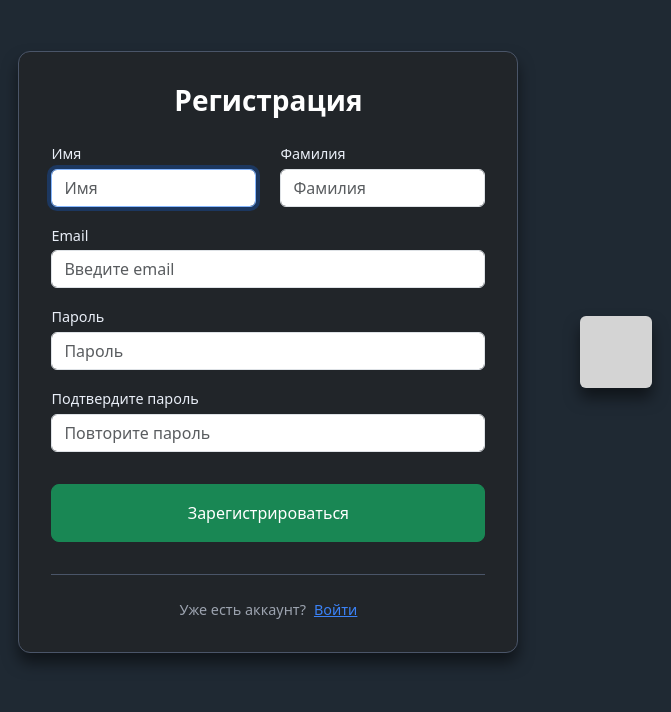
Scenario: показывает ошибку для короткого пароля
Type "John" into the field with placeholder "Имя".
click(154, 188); type("John")  # box [51, 169, 256, 207]
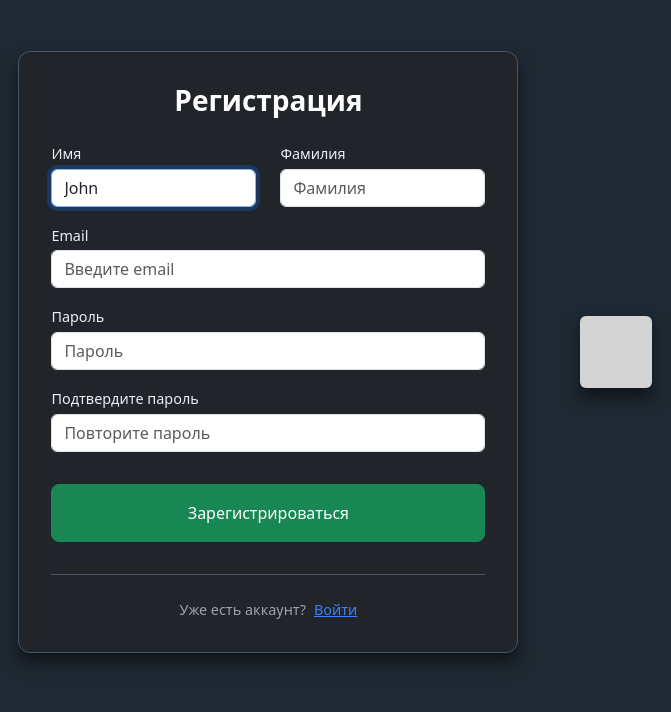
Type "Doe" into the field with placeholder "Фамилия".
click(383, 188); type("Doe")  # box [280, 169, 485, 207]
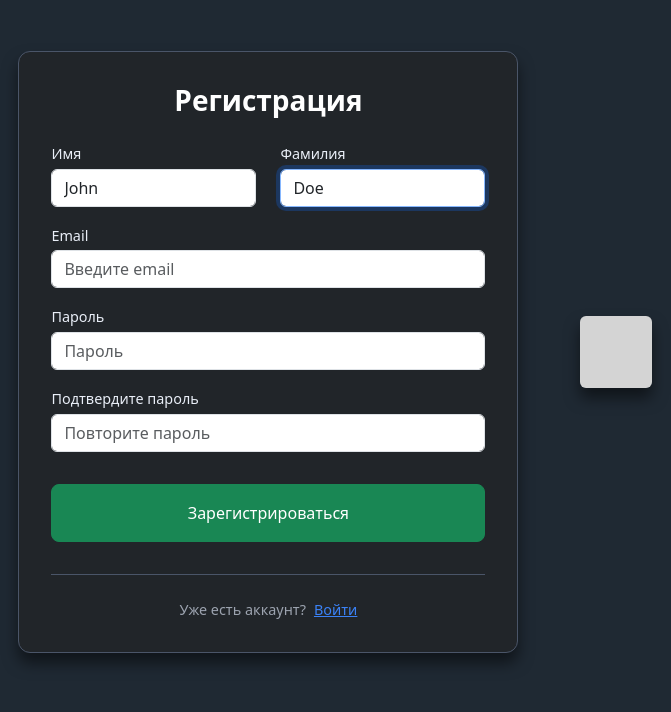
Type "test@example.com" into the field with placeholder "Введите email".
click(268, 270); type("test@example.com")  # box [51, 250, 485, 288]
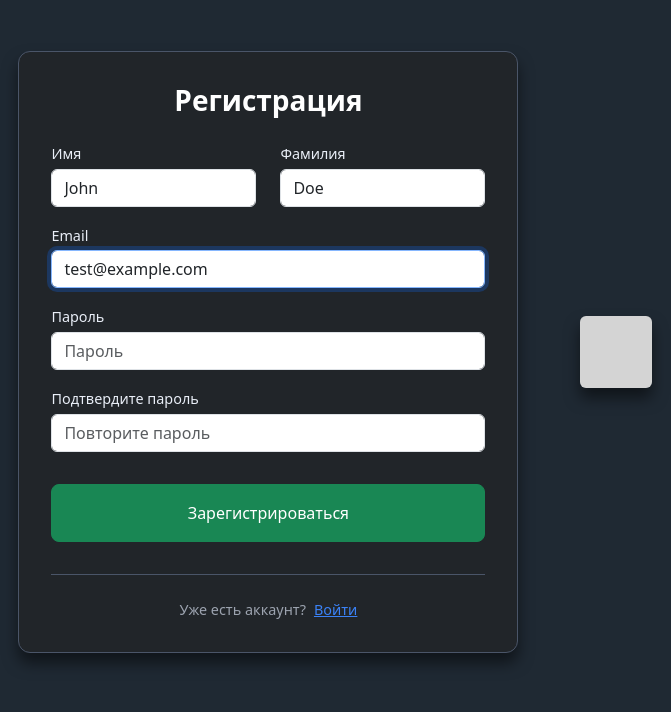
Type "sho" into the password field with placeholder "Пароль".
click(268, 351); type("sho")  # box [51, 332, 485, 370]
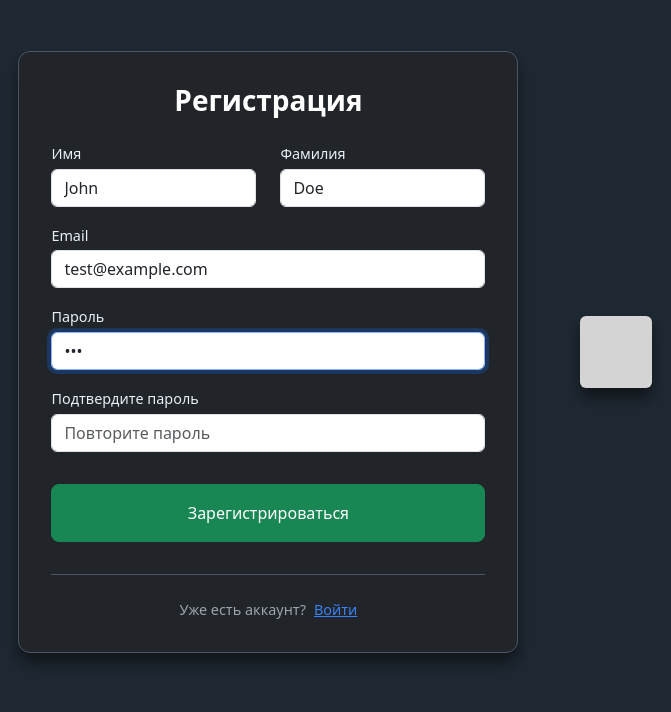
Type "sho" into the password field with placeholder "Повторите пароль".
click(268, 433); type("sho")  # box [51, 414, 485, 452]
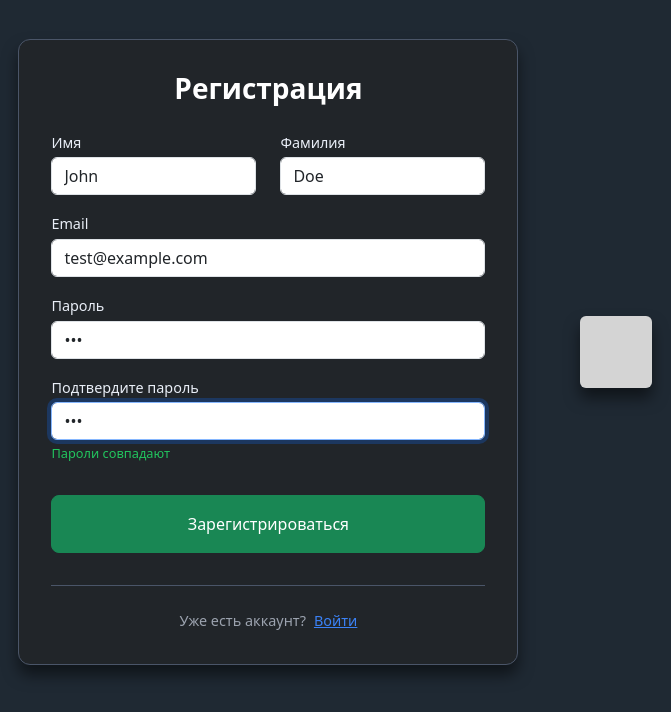
Click the button "Зарегистрироваться".
click(268, 524)  # box [51, 495, 485, 553]
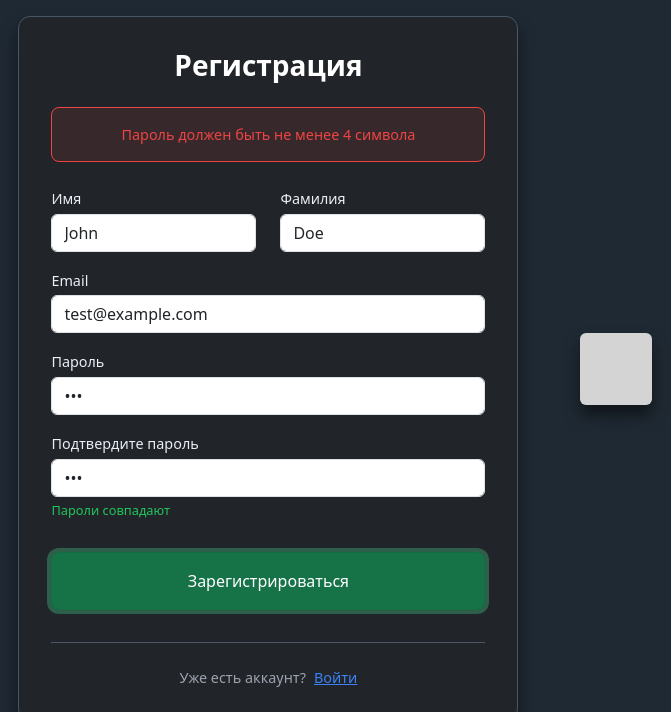
Now the text "Пароль должен быть не менее 4 символа" is shown, box [51, 107, 485, 162]
